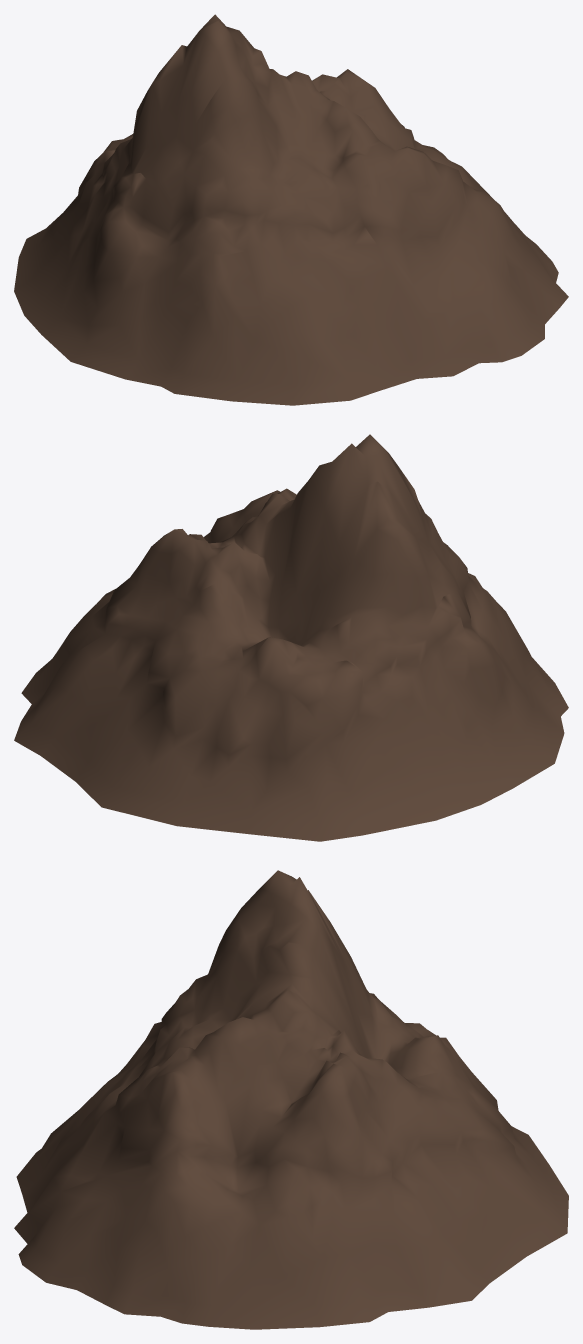
The model's file is Mountain_2.fbx.
3 renders of one model, top to bottom at view 1: azimuth 30°, elevation 25°; view 2: azimuth 150°, elevation 25°; view 3: azimuth 270°, elevation 25°, orthographic. The views are drawn at different scales.
Parts seen in each view (by area): view 1: PP_Forest_Mountain_Moss_01.001; view 2: PP_Forest_Mountain_Moss_01.001; view 3: PP_Forest_Mountain_Moss_01.001.
Boxes of the visible parts, left/top/right/bottom form: PP_Forest_Mountain_Moss_01.001: left=14, top=14, right=568, bottom=405; PP_Forest_Mountain_Moss_01.001: left=14, top=434, right=568, bottom=841; PP_Forest_Mountain_Moss_01.001: left=14, top=870, right=568, bottom=1329.
Size of the model in its own units: 35.48 by 34.73 by 20.94.
